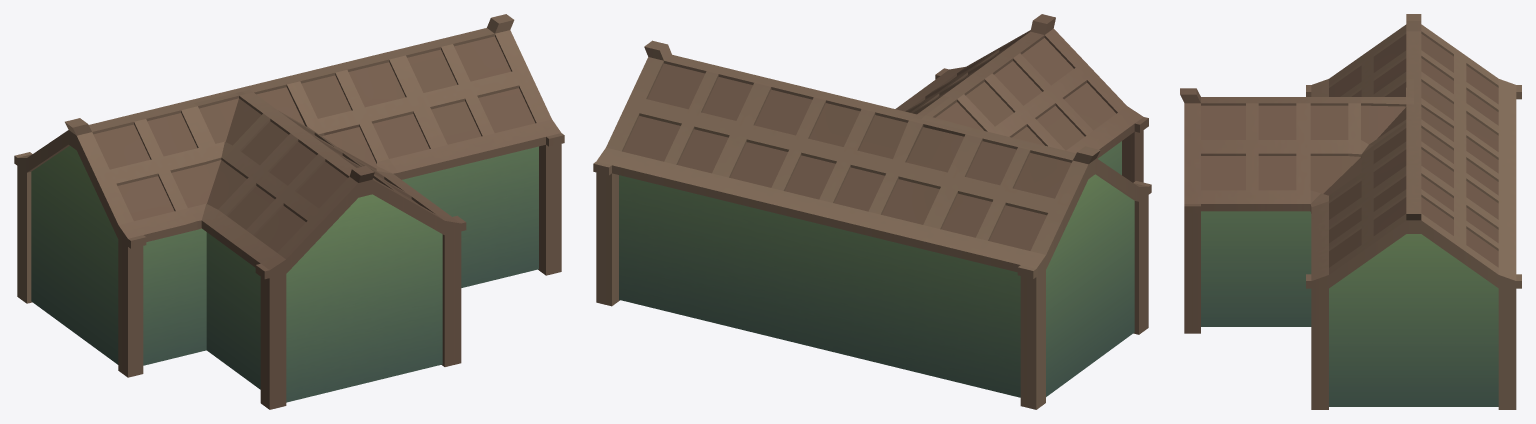
File: ItemProps_Housebigger.fbx
3 views of the same model, side by side, from view 1: azimuth 30°, elevation 25°; view 2: azimuth 150°, elevation 25°; view 3: azimuth 270°, elevation 25° (orthographic). The views are drawn at different scales.
Visible parts, largest first — view 1: Cube.033, Cube.029, Cube.032; view 2: Cube.033, Cube.029; view 3: Cube.033, Cube.029, Cube.032.
Part boxes in pixels (x1,y1,x2,y2): Cube.033: (14, 14, 564, 409); Cube.029: (31, 146, 538, 365); Cube.032: (206, 194, 442, 402); Cube.033: (593, 14, 1151, 409); Cube.029: (619, 174, 1134, 397); Cube.033: (1180, 14, 1521, 409); Cube.029: (1329, 234, 1498, 406); Cube.032: (1201, 211, 1311, 326).
Size of the model in its own units: 1376 by 638 by 995.
